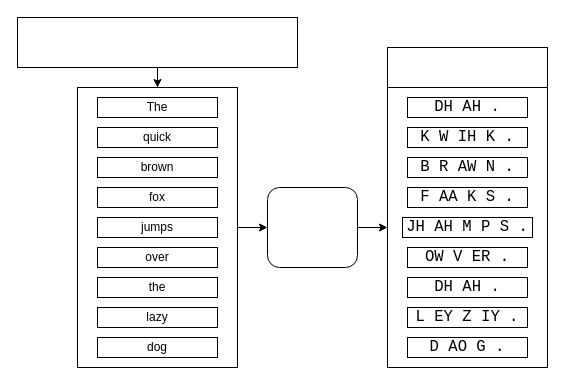
This 565x385 diagram has some shape labels left out. Here are the shapes that lost their labels. From the top down, the centre of each, then its label:
At (x=157, y=42): "Sentence: The quick brown fox jumps over the lazy dog".
At (x=467, y=67): "True Phonemes".
At (x=312, y=227): "CMU Pronouncing Dictionary".
